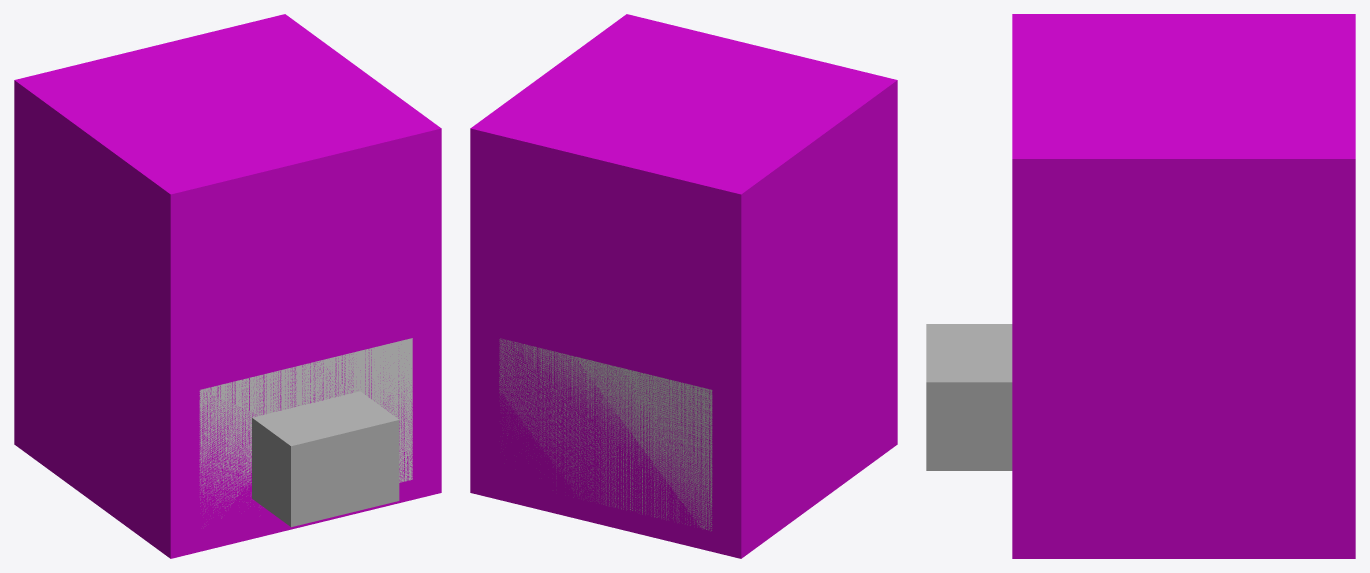
Rendered from hog.glb.
3 renders of one model, left to right at view 1: azimuth 30°, elevation 25°; view 2: azimuth 150°, elevation 25°; view 3: azimuth 270°, elevation 25°, orthographic. The views are drawn at different scales.
Parts seen in each view (by area): view 1: collide.body, snout, body; view 2: collide.body, body; view 3: collide.body, snout.
Boxes of the visible parts, bbox=[...] form: collide.body: bbox=[14, 14, 441, 558]; snout: bbox=[252, 391, 399, 527]; body: bbox=[199, 338, 412, 518]; collide.body: bbox=[470, 14, 897, 558]; body: bbox=[499, 338, 712, 531]; collide.body: bbox=[1012, 14, 1355, 558]; snout: bbox=[926, 324, 1012, 470].
Bounding box in the file's own units: 1.4 × 1.8 × 1.75.
